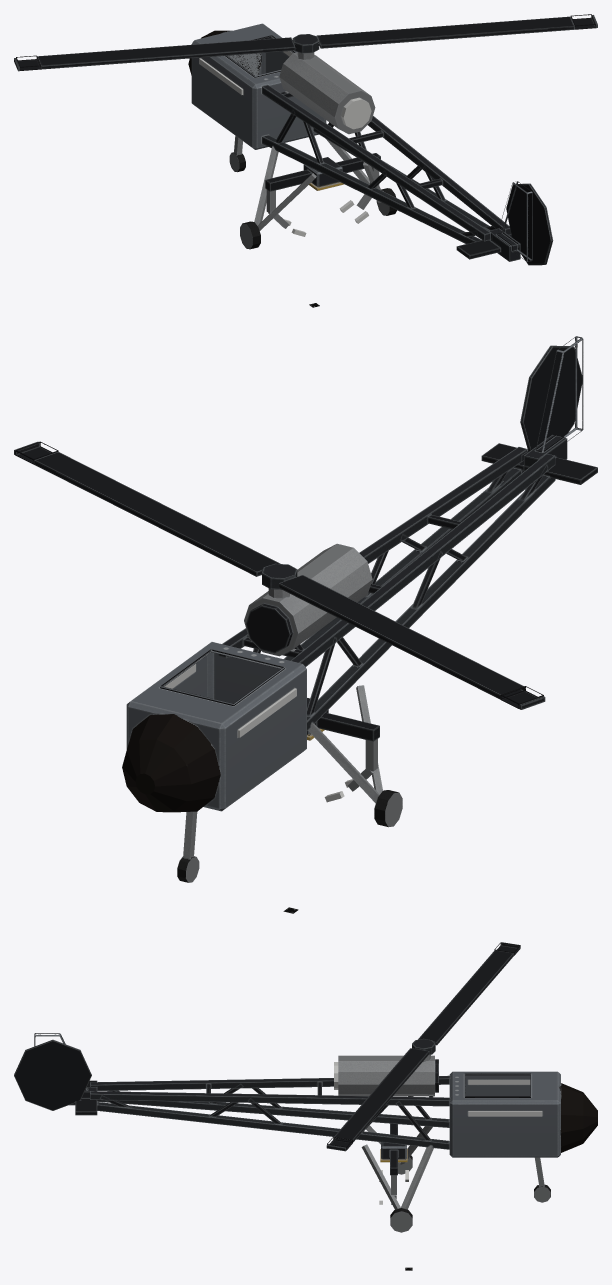
File: chs_buzzard.fbx
3 renders of one model, top to bottom at view 1: azimuth 30°, elevation 25°; view 2: azimuth 150°, elevation 25°; view 3: azimuth 270°, elevation 25°, orthographic. The views are drawn at different scales.
Parts seen in each view (by area): view 1: base_bar, rotor_bar, tailRotor_bar, base_glow_running_bar; view 2: base_bar, rotor_bar, tailRotor_bar, base_glow_running_bar; view 3: base_bar, rotor_bar, tailRotor_bar, base_glow_running_bar.
Boxes of the visible parts, bbox=[...] form: base_bar: bbox=[188, 23, 532, 261]; rotor_bar: bbox=[14, 14, 597, 71]; tailRotor_bar: bbox=[506, 183, 553, 265]; base_glow_running_bar: bbox=[199, 51, 371, 129]; base_bar: bbox=[122, 336, 597, 882]; rotor_bar: bbox=[14, 441, 545, 709]; tailRotor_bar: bbox=[520, 345, 582, 451]; base_glow_running_bar: bbox=[165, 664, 296, 737]; base_bar: bbox=[34, 1033, 597, 1232]; rotor_bar: bbox=[326, 942, 520, 1151]; tailRotor_bar: bbox=[14, 1039, 91, 1110]; base_glow_running_bar: bbox=[334, 1062, 542, 1116].
Size of the model in its own units: 1316 by 700 by 1575.
Materials: 2 (2 with a texture image).
